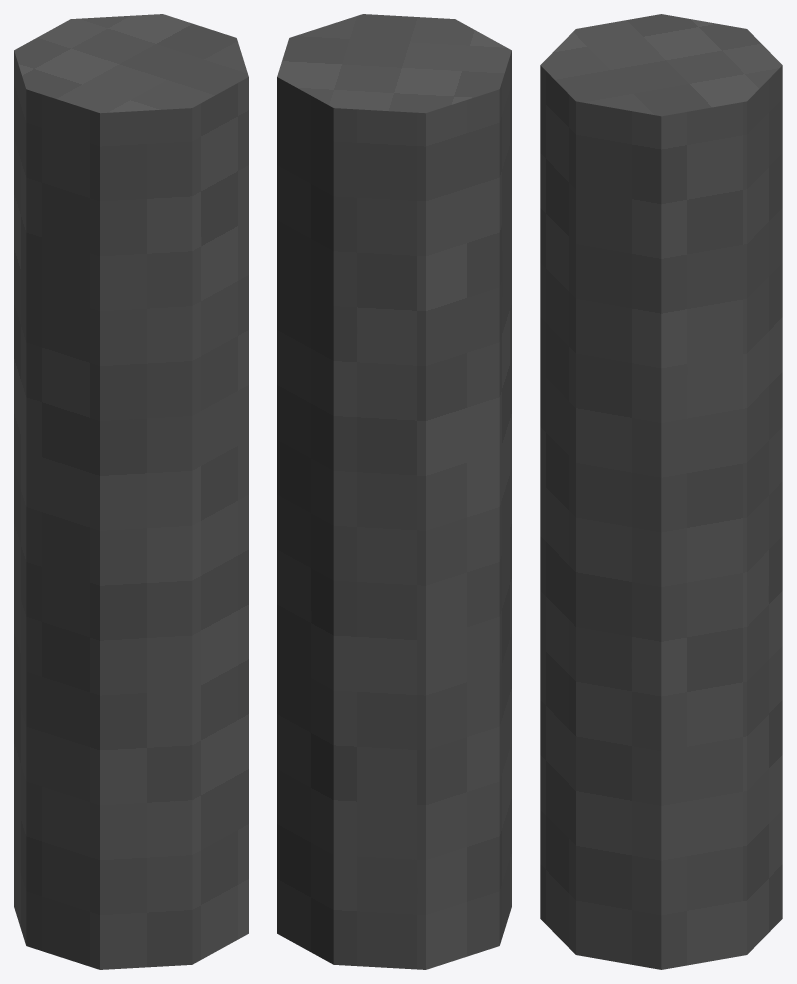
The model's file is recharger-pilon.obj.
3 views of the same model, side by side, from view 1: azimuth 30°, elevation 25°; view 2: azimuth 150°, elevation 25°; view 3: azimuth 270°, elevation 25° (orthographic).
Visible parts, largest first — view 1: Cylinder; view 2: Cylinder; view 3: Cylinder.
Part boxes in pixels (x1,y1,x2,y2): Cylinder: [14, 14, 248, 969]; Cylinder: [277, 14, 511, 969]; Cylinder: [540, 14, 782, 969].
Bounding box in the file's own units: 0.18 × 0.7 × 0.18.
